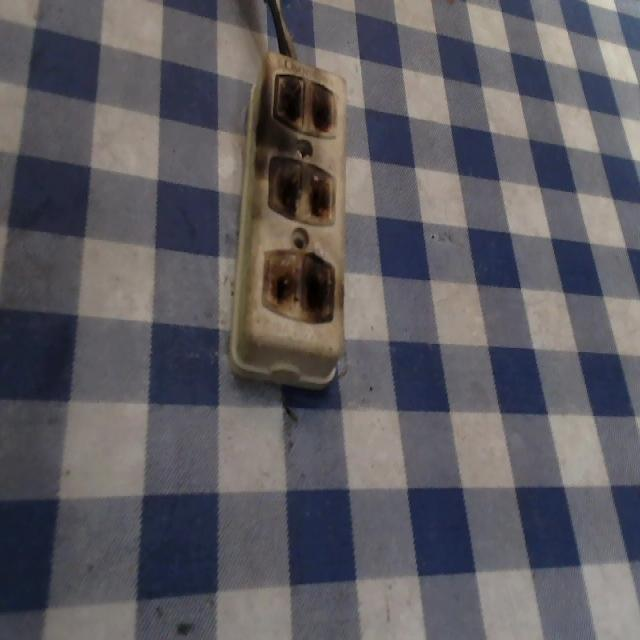-: (261, 243, 335, 325), (263, 150, 338, 222), (270, 68, 337, 139)
